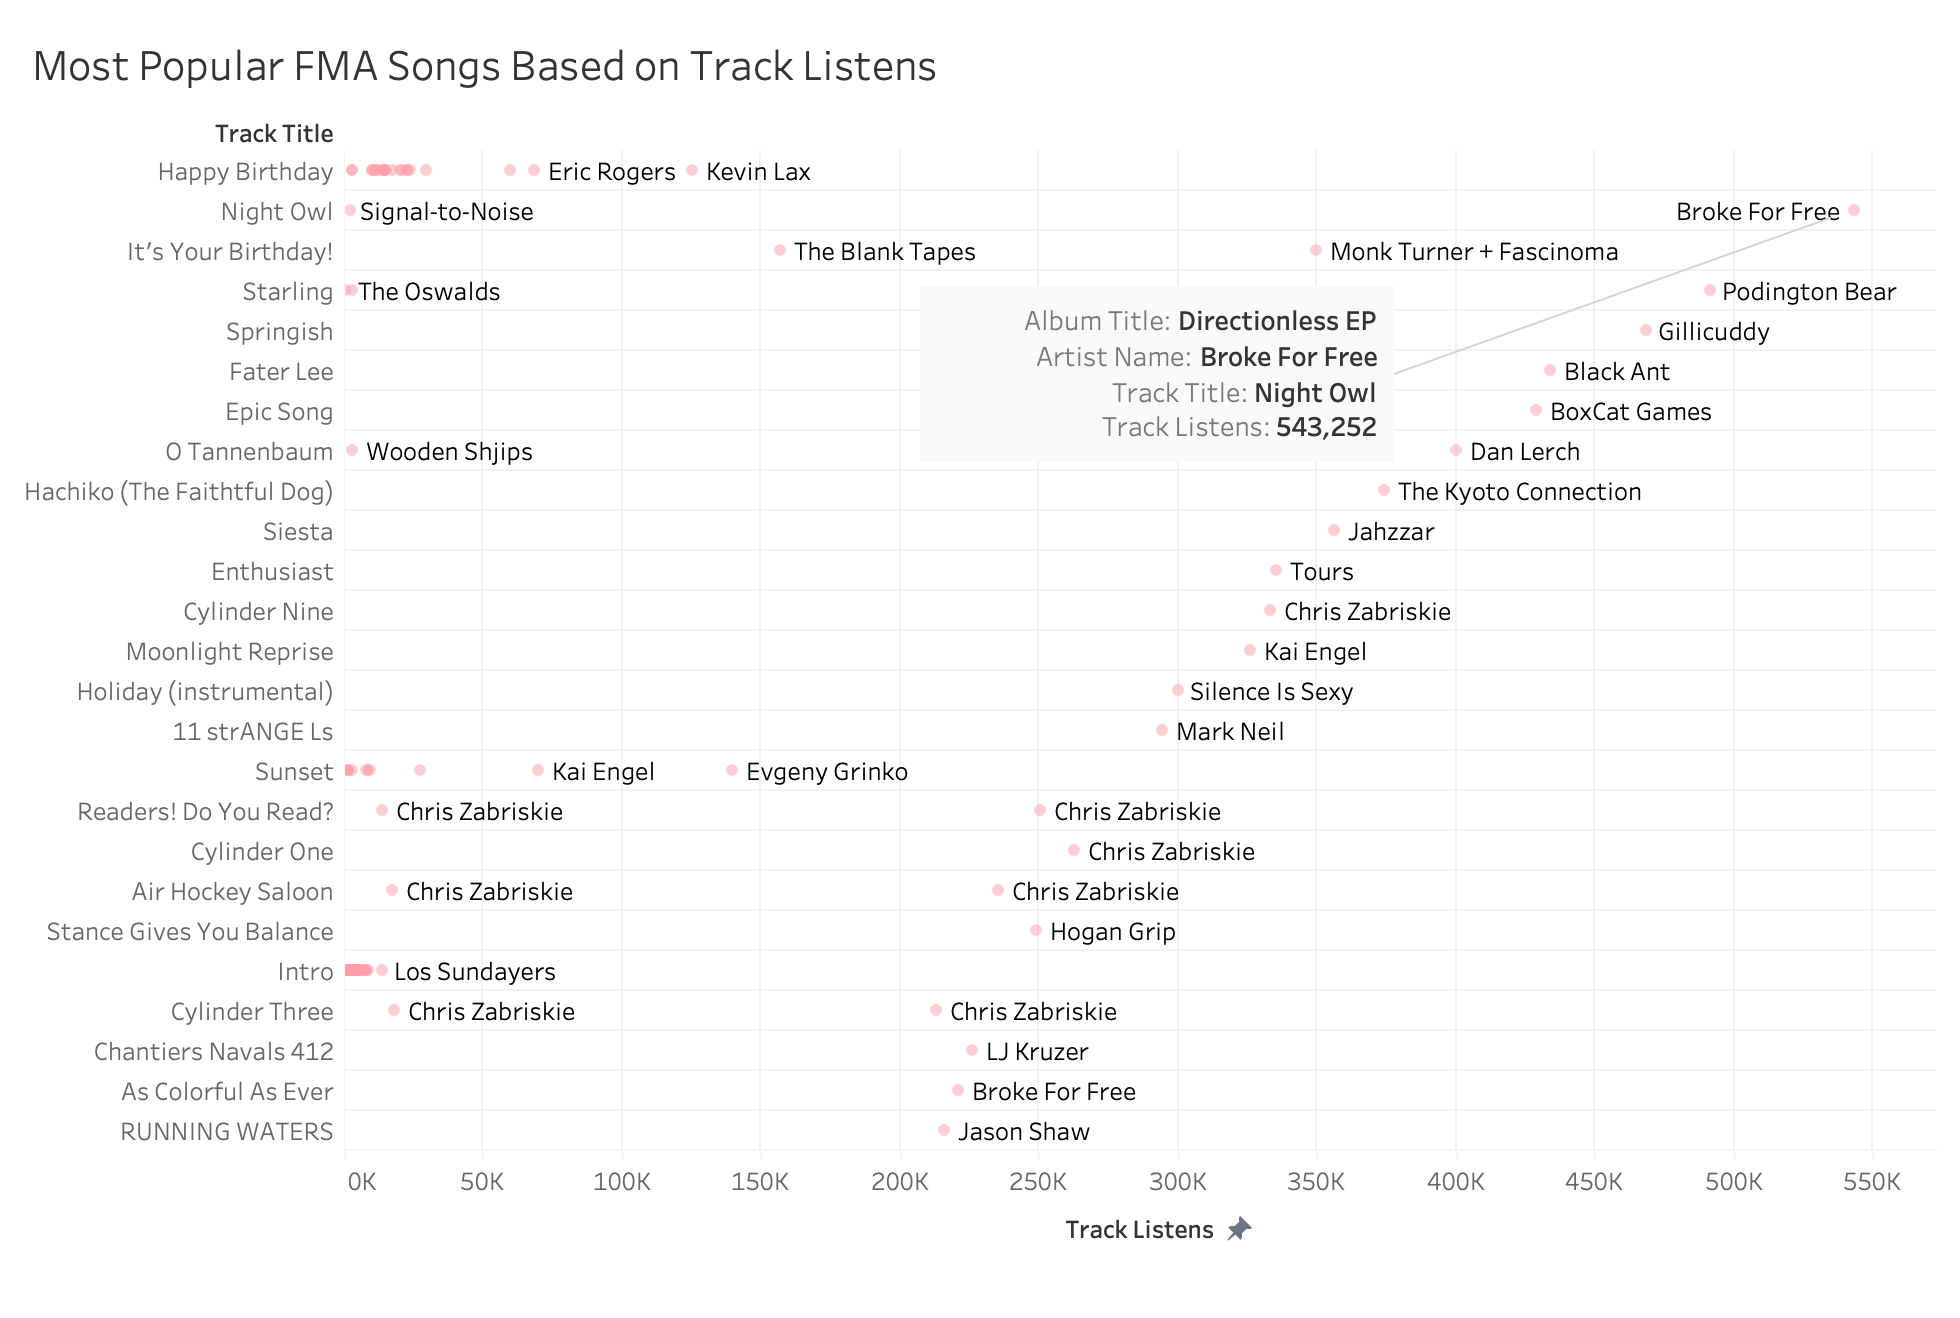

What the dashboard file says about the page in this screenshot:
{"tool":"tableau","page":{"name":"Dashboard 1 (2)","canvas":[1600,900],"ordinal":1},"visuals":[{"type":"worksheet","title":"Sheet 1","mark":"Automatic","box":[8,8,1584,884]}]}

Visuals, with their boxes on the page's 1600x900 design canvas (x1, y1, x2, y2). These are canvas units, not pixel positions in the 1960x1318 screenshot, which may show the page scaled, cropped or inside an application window:
"Sheet 1" worksheet: [8,8,1592,892]
